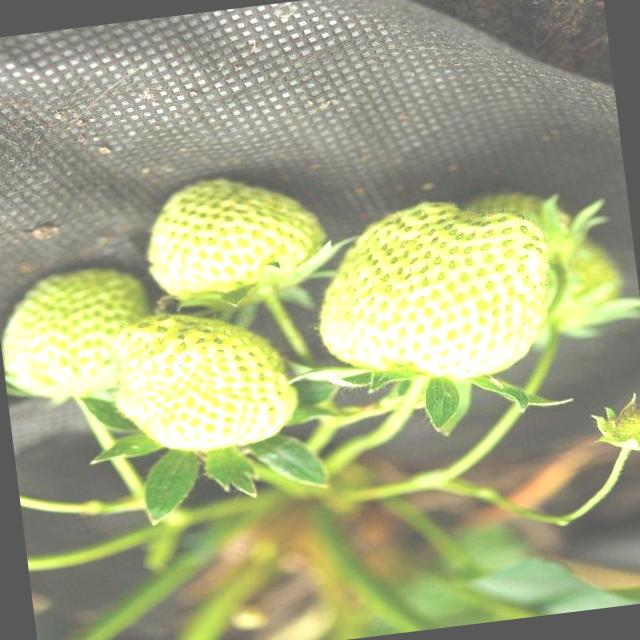Strawberry: (306, 188, 556, 400), (104, 298, 300, 464), (140, 168, 330, 316), (0, 262, 155, 409)
